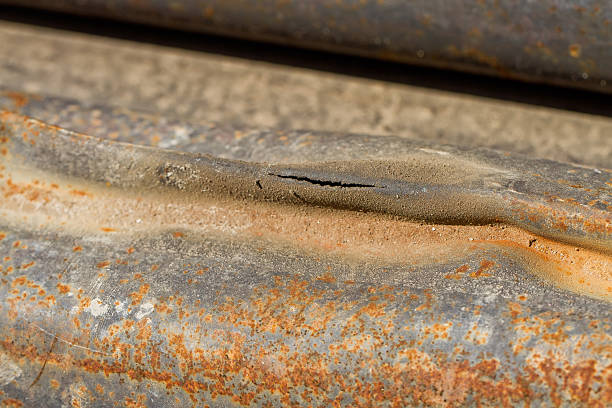crack: (258, 169, 400, 198)
